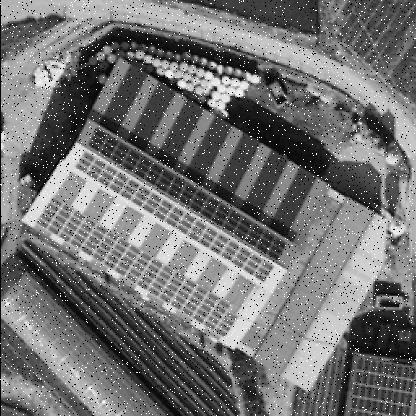solar-pv-panel: (35, 197, 237, 337), (73, 149, 274, 282), (87, 126, 285, 261), (349, 358, 416, 416)
